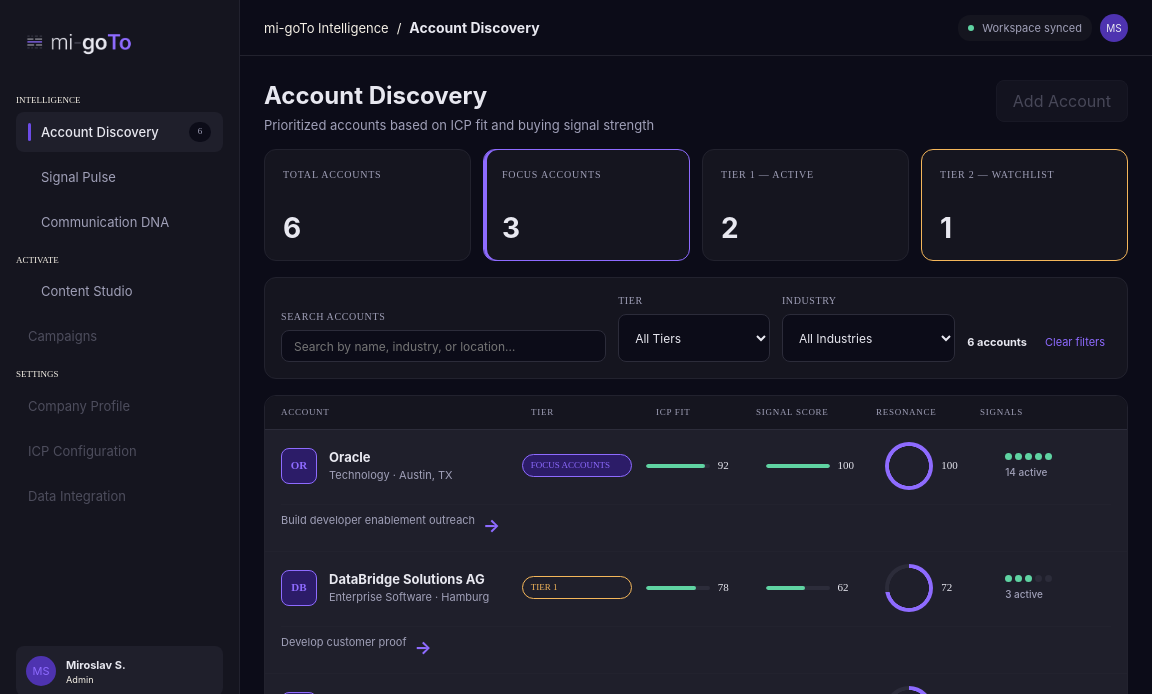
TASK-MAINT-004 Account Discovery and Overview › searches exact account attributes and combines search with filters
The width and height of the screenshot is (1152, 694).
Type "oracle" into the search field labelled "Search accounts" at (444, 346), box [281, 330, 606, 362]
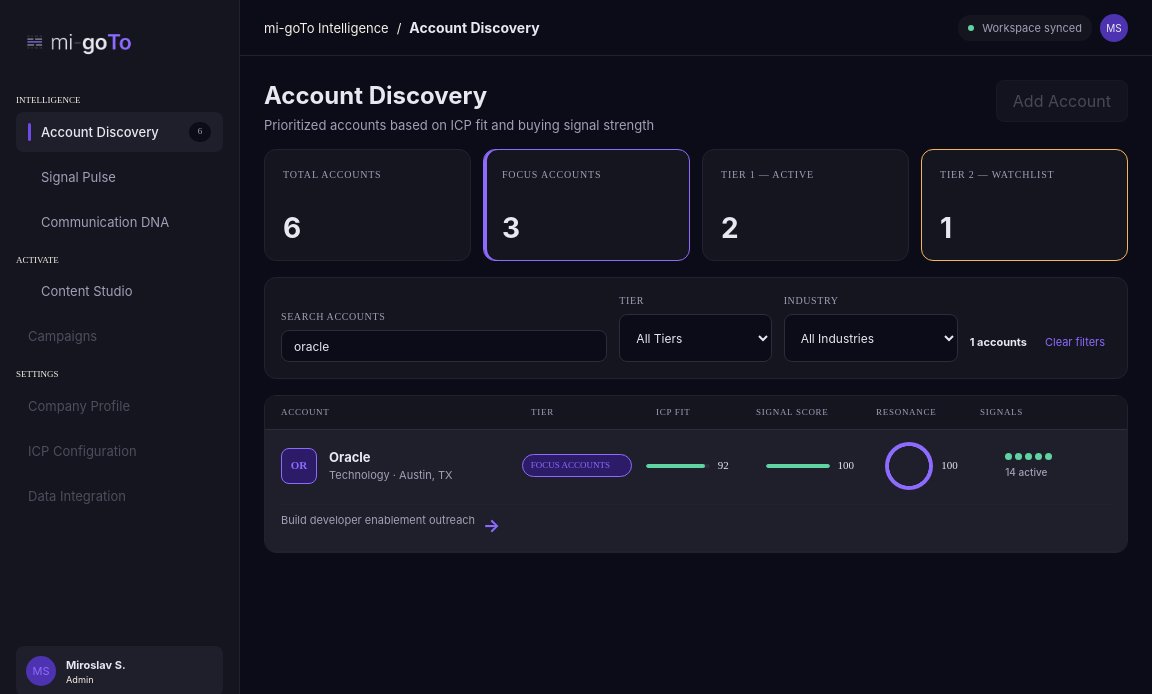
Now the number of elements with class "account-row" is 1, box [265, 430, 1127, 552]
Select "Focus Accounts" in the dropdown labelled "Tier" at (696, 338), box [619, 314, 772, 362]
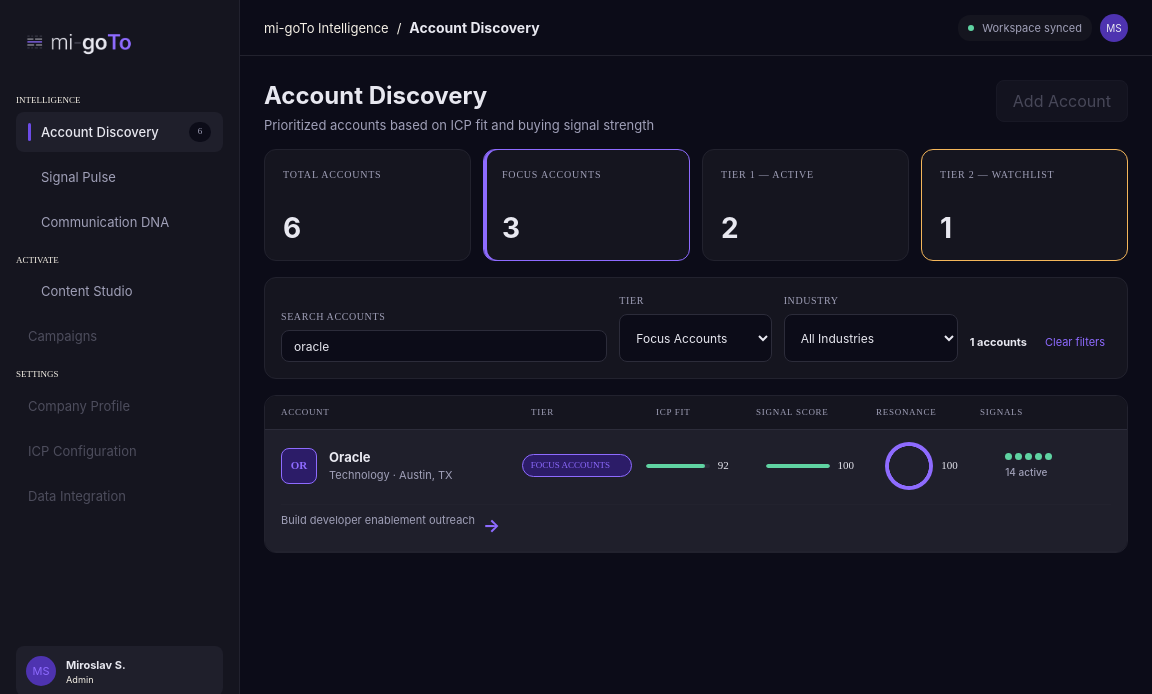
Expected: the text "Oracle" is shown, [329, 449, 371, 465]
Now the number of elements with class "account-row" is 1, box [265, 430, 1127, 552]
Select "Energy Tech" in the dropdown labelled "Industry" at (871, 338), box [784, 314, 958, 362]
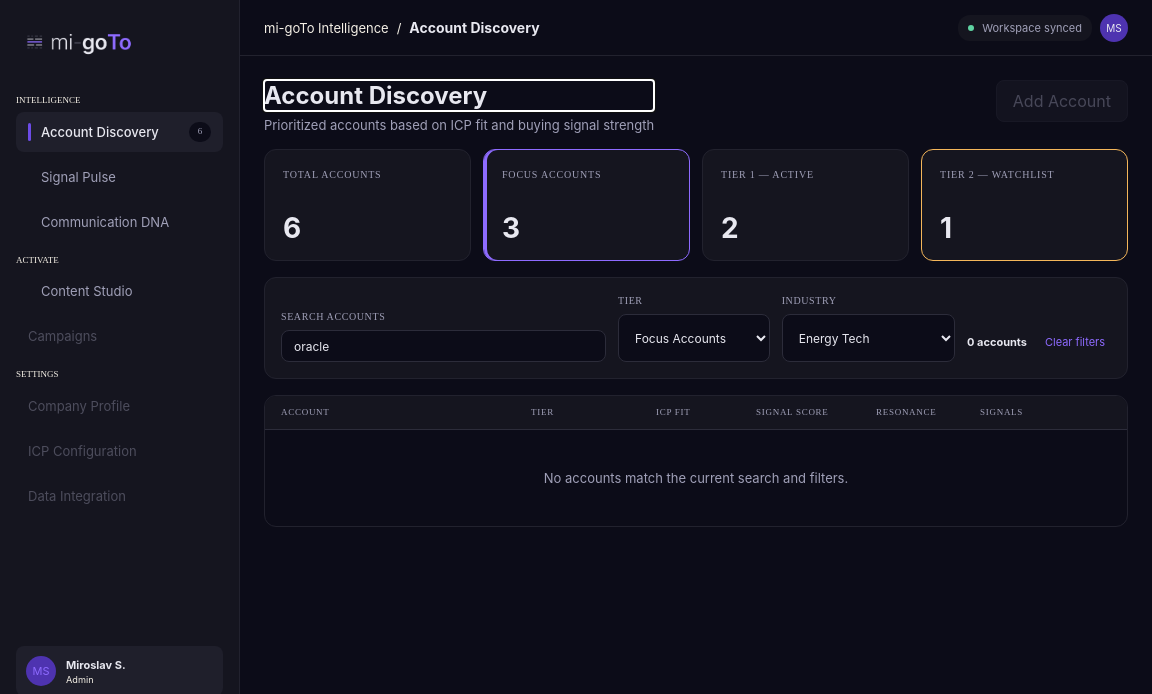
Now no elements with class "account-row" are shown
